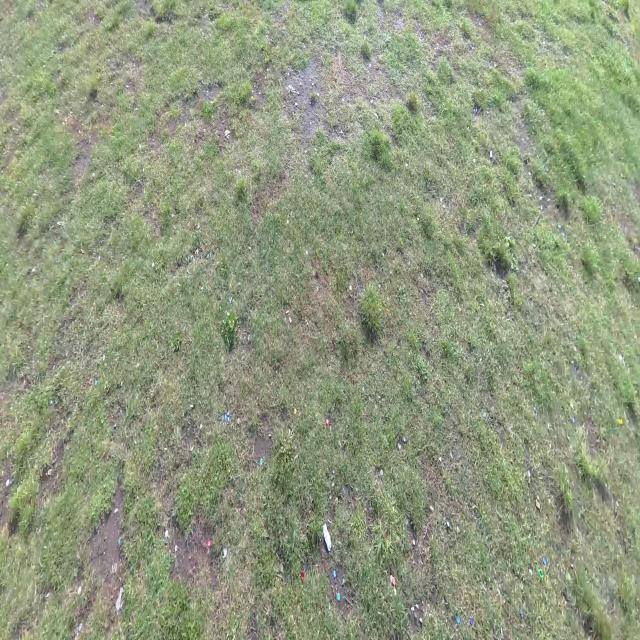rubbish: (323, 523, 331, 552)
